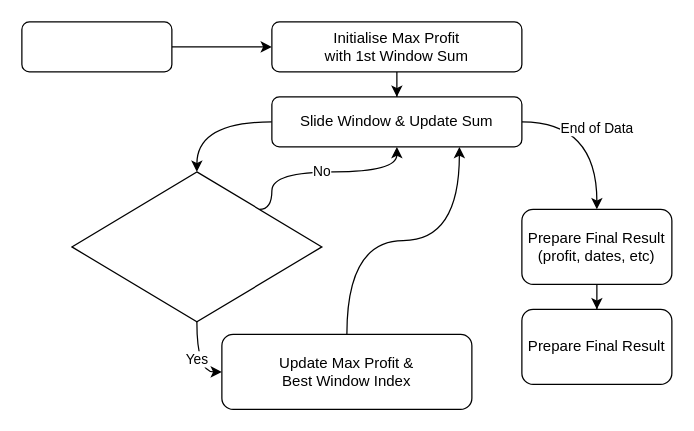
This 694x431 diagram has some shape labels left out. Here are the shapes that lost their labels. From the top down, the box of each, then its label:
(21, 21, 172, 72): Calculate Daily Profits Array
(71, 171, 322, 322): is Current Profit > Max Profit?
